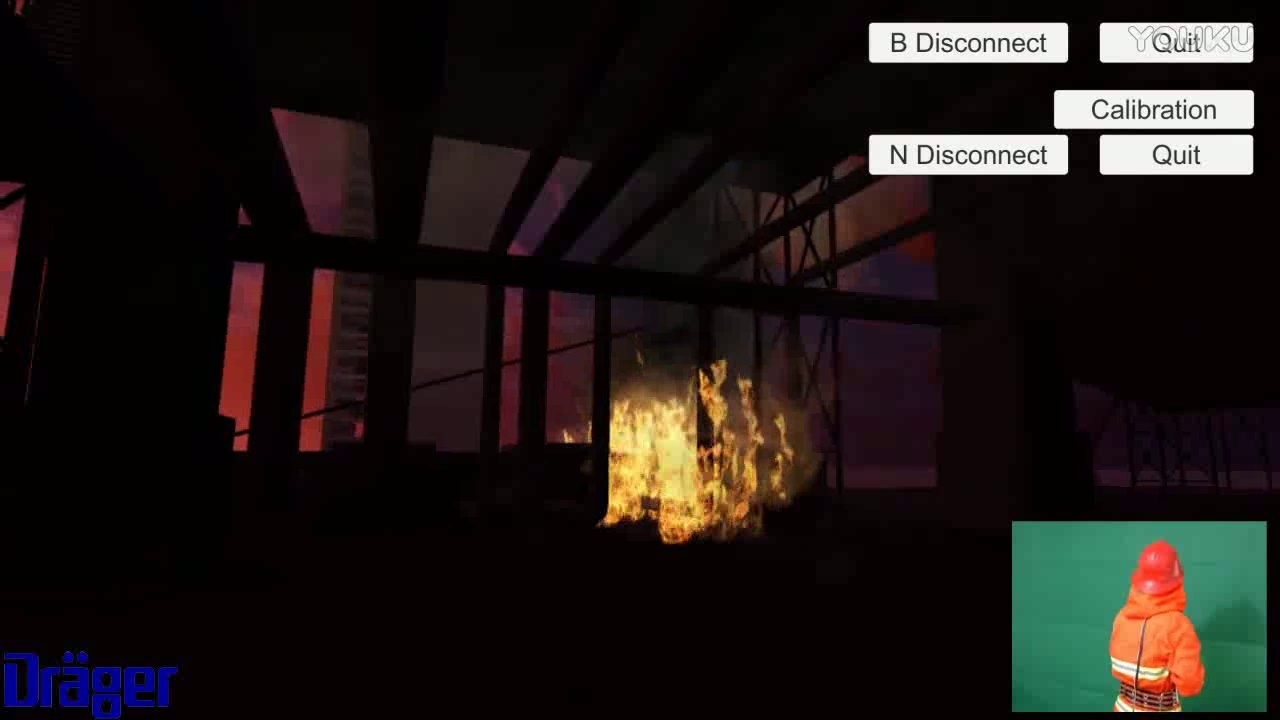fire: (566, 342, 808, 560)
